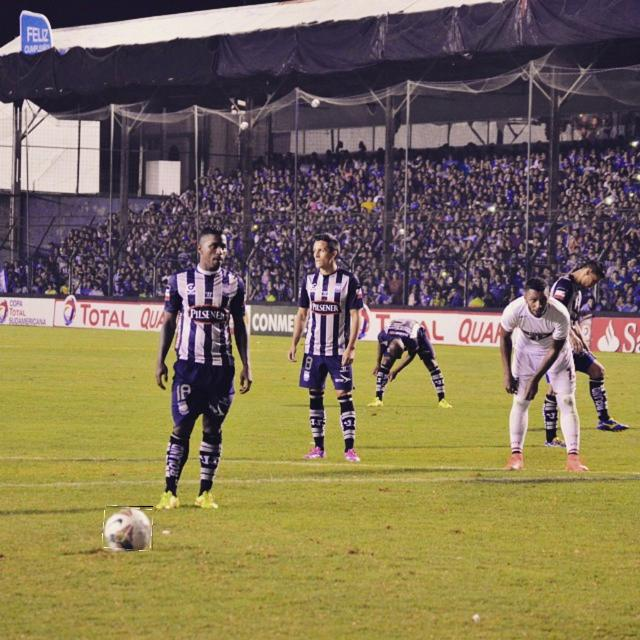Football: (103, 506, 153, 550)
